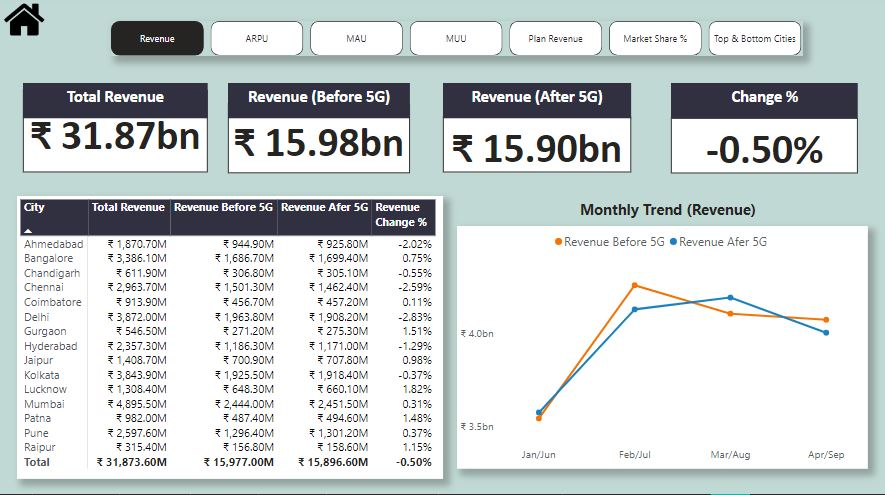

This screenshot's page, from the dashboard's own definition file:
{"tool":"powerbi","page":{"name":"Revenue","canvas":[1280,720],"ordinal":1},"visuals":[{"type":"card","fields":{"Values":["Key Measures.Total Revenue"]},"box":[33.3,135.9,267.5,118.6],"z":0},{"type":"pivotTable","fields":{"Rows":["dim_cities.city_name"],"Values":["Key Measures.Total Revenue","Key Measures.Revenue Before 5G","Key Measures.Revenue Afer 5G","Key Measures.Revnue Change %"]},"box":[24.6,289.2,615.9,409.2],"z":1000},{"type":"card","fields":{"Values":["Key Measures.Revenue Before 5G"]},"box":[329.6,156.1,263.1,99.8],"z":2000},{"type":"card","fields":{"Values":["Key Measures.Revenue Afer 5G"]},"box":[640.5,174.9,271.8,79.5],"z":3000},{"type":"card","fields":{"Values":["Key Measures.Revenue Change %"]},"box":[970.1,176.4,270.4,79.5],"z":4000},{"type":"textbox","box":[33.3,125.8,267.5,50.6],"z":5000},{"type":"textbox","box":[329.6,125.8,263.1,50.6],"z":6000},{"type":"textbox","box":[640.5,125.8,271.8,50.6],"z":7000},{"type":"textbox","box":[970.1,125.8,270.4,50.6],"z":8000},{"type":"lineChart","fields":{"Category":["dim_date.Time Period Lable"],"Y":["Key Measures.Revenue Before 5G","Key Measures.Revenue Afer 5G"]},"box":[660.7,332.5,594.2,351.3],"z":9000},{"type":"textbox","box":[783.6,289.2,364.3,43.4],"z":10000},{"type":"pageNavigator","title":"Revenue","box":[160.5,36.1,1000.5,50.6],"z":11000},{"type":"image","box":[0,0,69.4,68],"z":11001}]}

Visuals, with their boxes in screenshot pixels (x1, y1, x2, y2), scaled from the page's 1280x720 canvas onto the 885x495 screenshot:
card - Key Measures.Total Revenue: <bbox>23, 93, 208, 175</bbox>
pivotTable - dim_cities.city_name x Key Measures.Total Revenue: <bbox>17, 199, 443, 480</bbox>
card - Key Measures.Revenue Before 5G: <bbox>228, 107, 410, 176</bbox>
card - Key Measures.Revenue Afer 5G: <bbox>443, 120, 631, 175</bbox>
card - Key Measures.Revenue Change %: <bbox>671, 121, 858, 176</bbox>
textbox: <bbox>23, 86, 208, 121</bbox>
textbox: <bbox>228, 86, 410, 121</bbox>
textbox: <bbox>443, 86, 631, 121</bbox>
textbox: <bbox>671, 86, 858, 121</bbox>
lineChart - dim_date.Time Period Lable x Key Measures.Revenue Before 5G: <bbox>457, 229, 868, 470</bbox>
textbox: <bbox>542, 199, 794, 229</bbox>
"Revenue" pageNavigator: <bbox>111, 25, 803, 60</bbox>
image: <bbox>0, 0, 48, 47</bbox>
